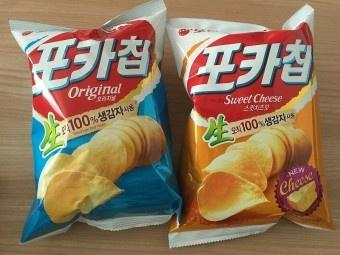snack: (9, 0, 184, 246), (169, 3, 335, 247)
